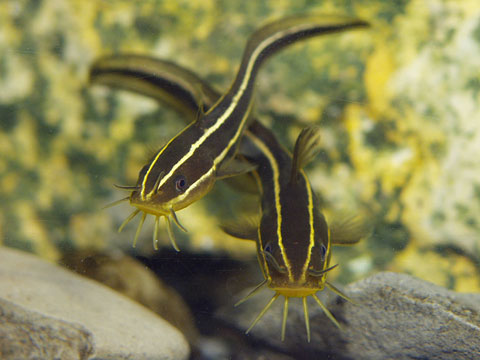gonzui: (253, 85, 363, 330)
